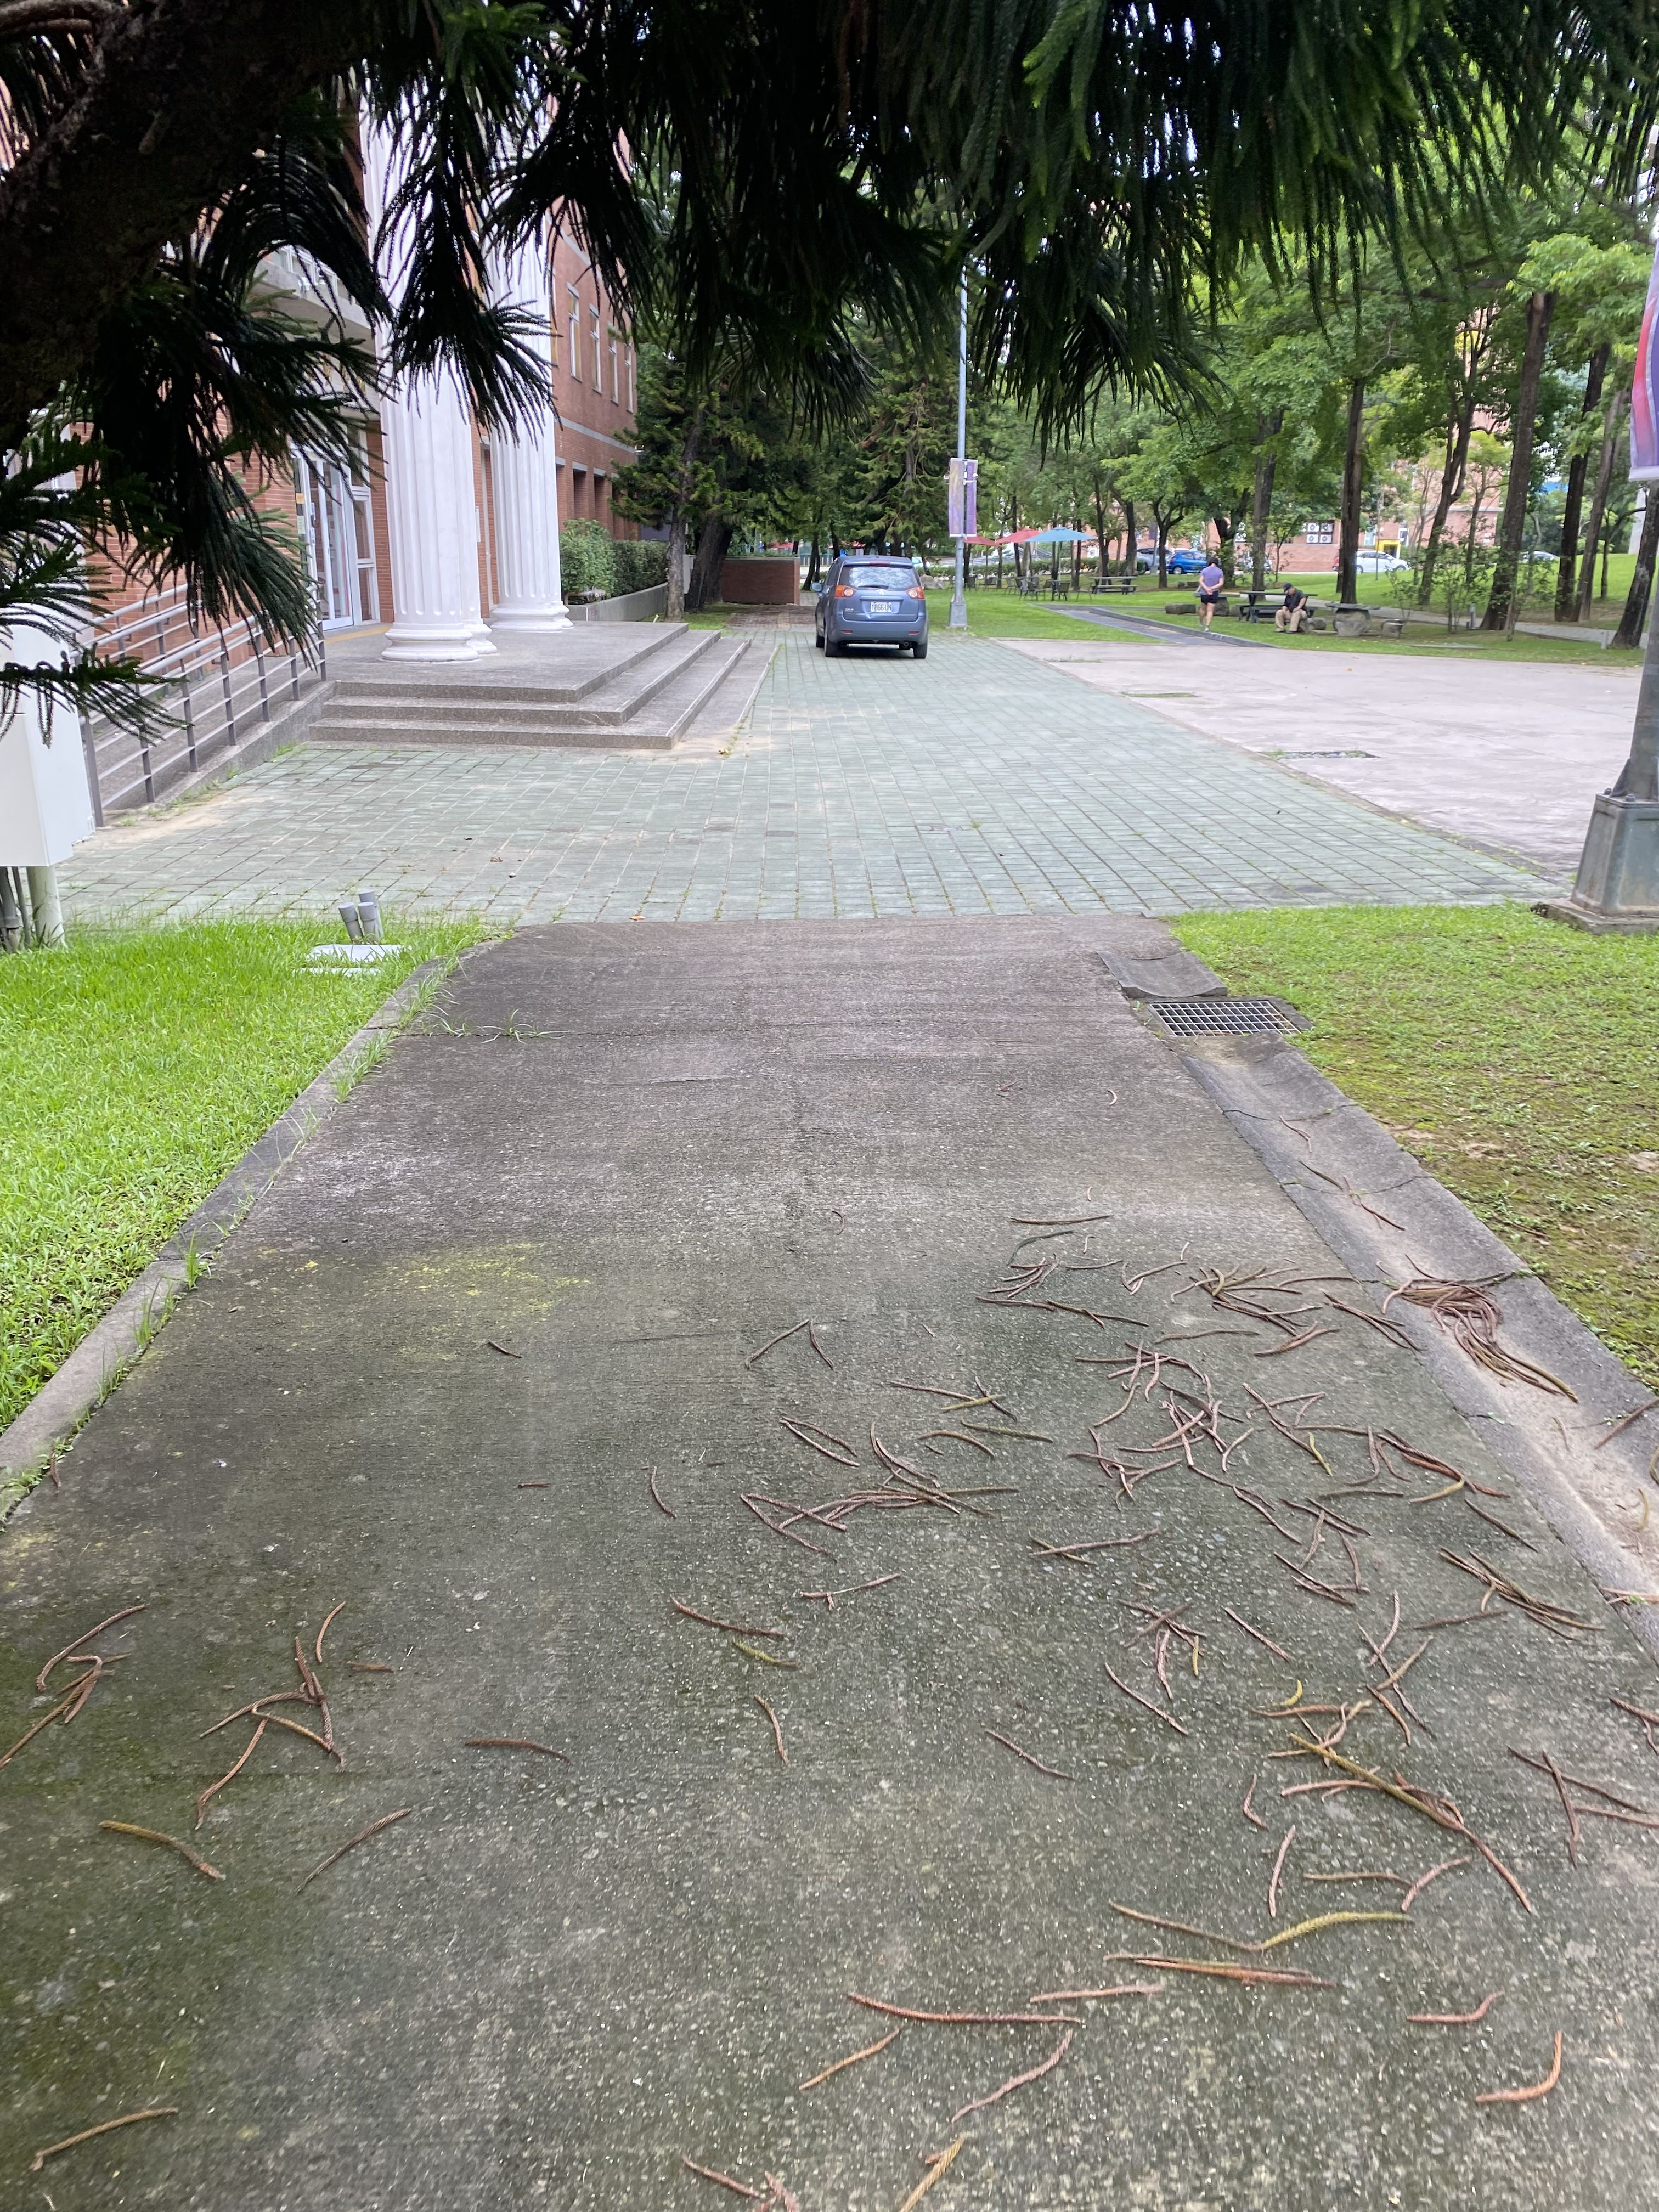sidewalk: (19, 617, 1647, 2212)
